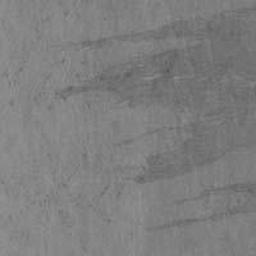Water spot: (54, 6, 256, 186), (145, 179, 256, 232)
